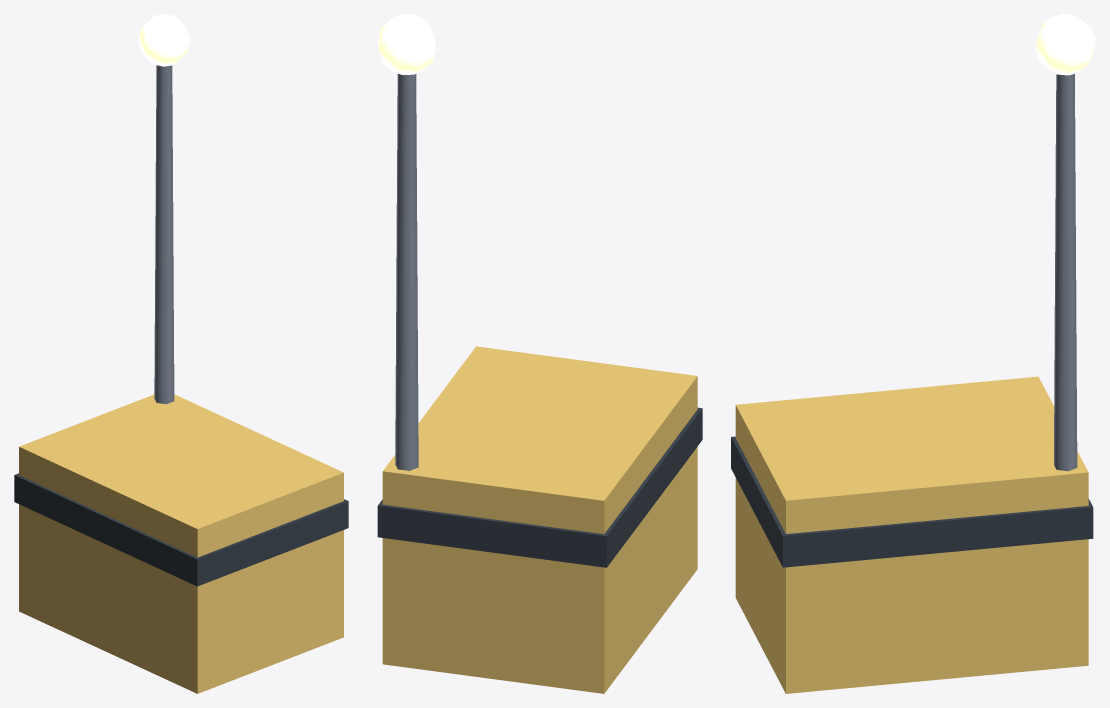
File: supply-cache.glb
The picture shows the model from 3 angles, left to right: view 1: azimuth 30°, elevation 25°; view 2: azimuth 150°, elevation 25°; view 3: azimuth 270°, elevation 25°; orthographic projection. The views are drawn at different scales.
Parts seen in each view (by area): view 1: supply-cache; view 2: supply-cache; view 3: supply-cache.
Part boxes in pixels (<box>): supply-cache: <box>14,14,348,693</box>; supply-cache: <box>377,14,702,693</box>; supply-cache: <box>731,14,1095,693</box>.
Bounding box in the file's own units: 2.35 × 5.49 × 2.82.
